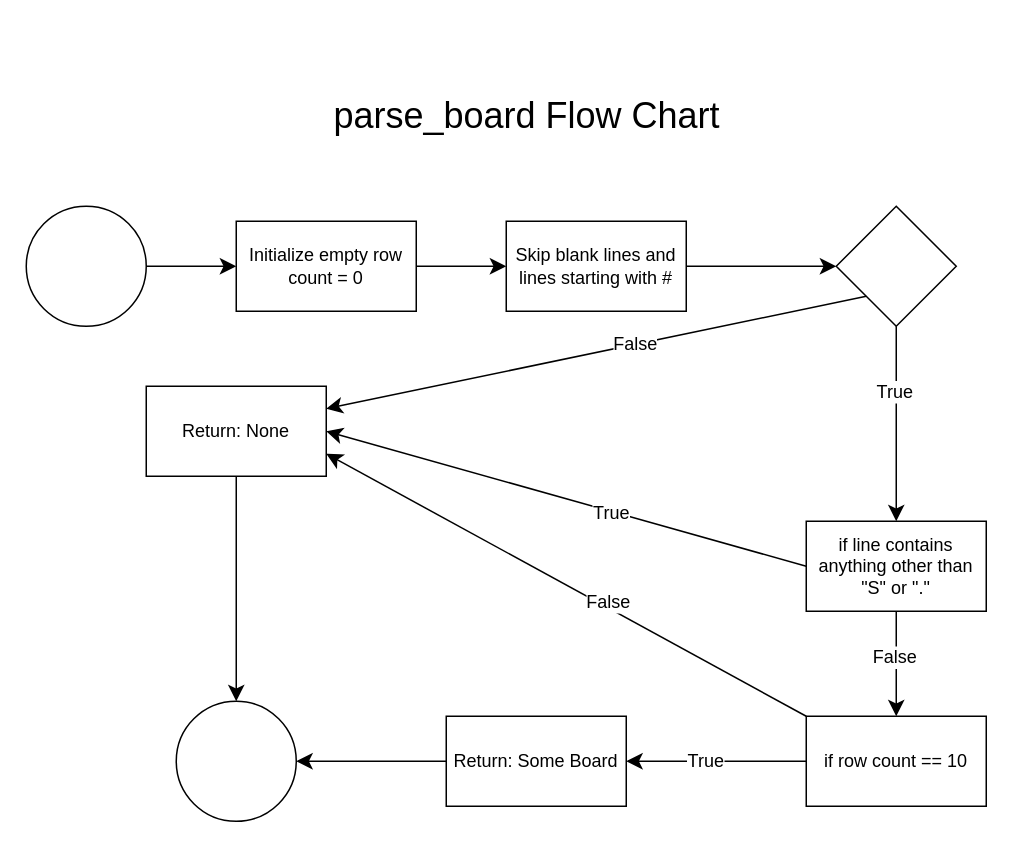
This 1013x848 diagram has some shape labels left out. The shapes that lost their labels are listed below. From the top down, each one's box as (x1, y1, x2, y2) in pixels, then its label:
(25, 205, 146, 326): Start
(835, 205, 956, 326): if length ! = 10
(175, 700, 296, 821): End
